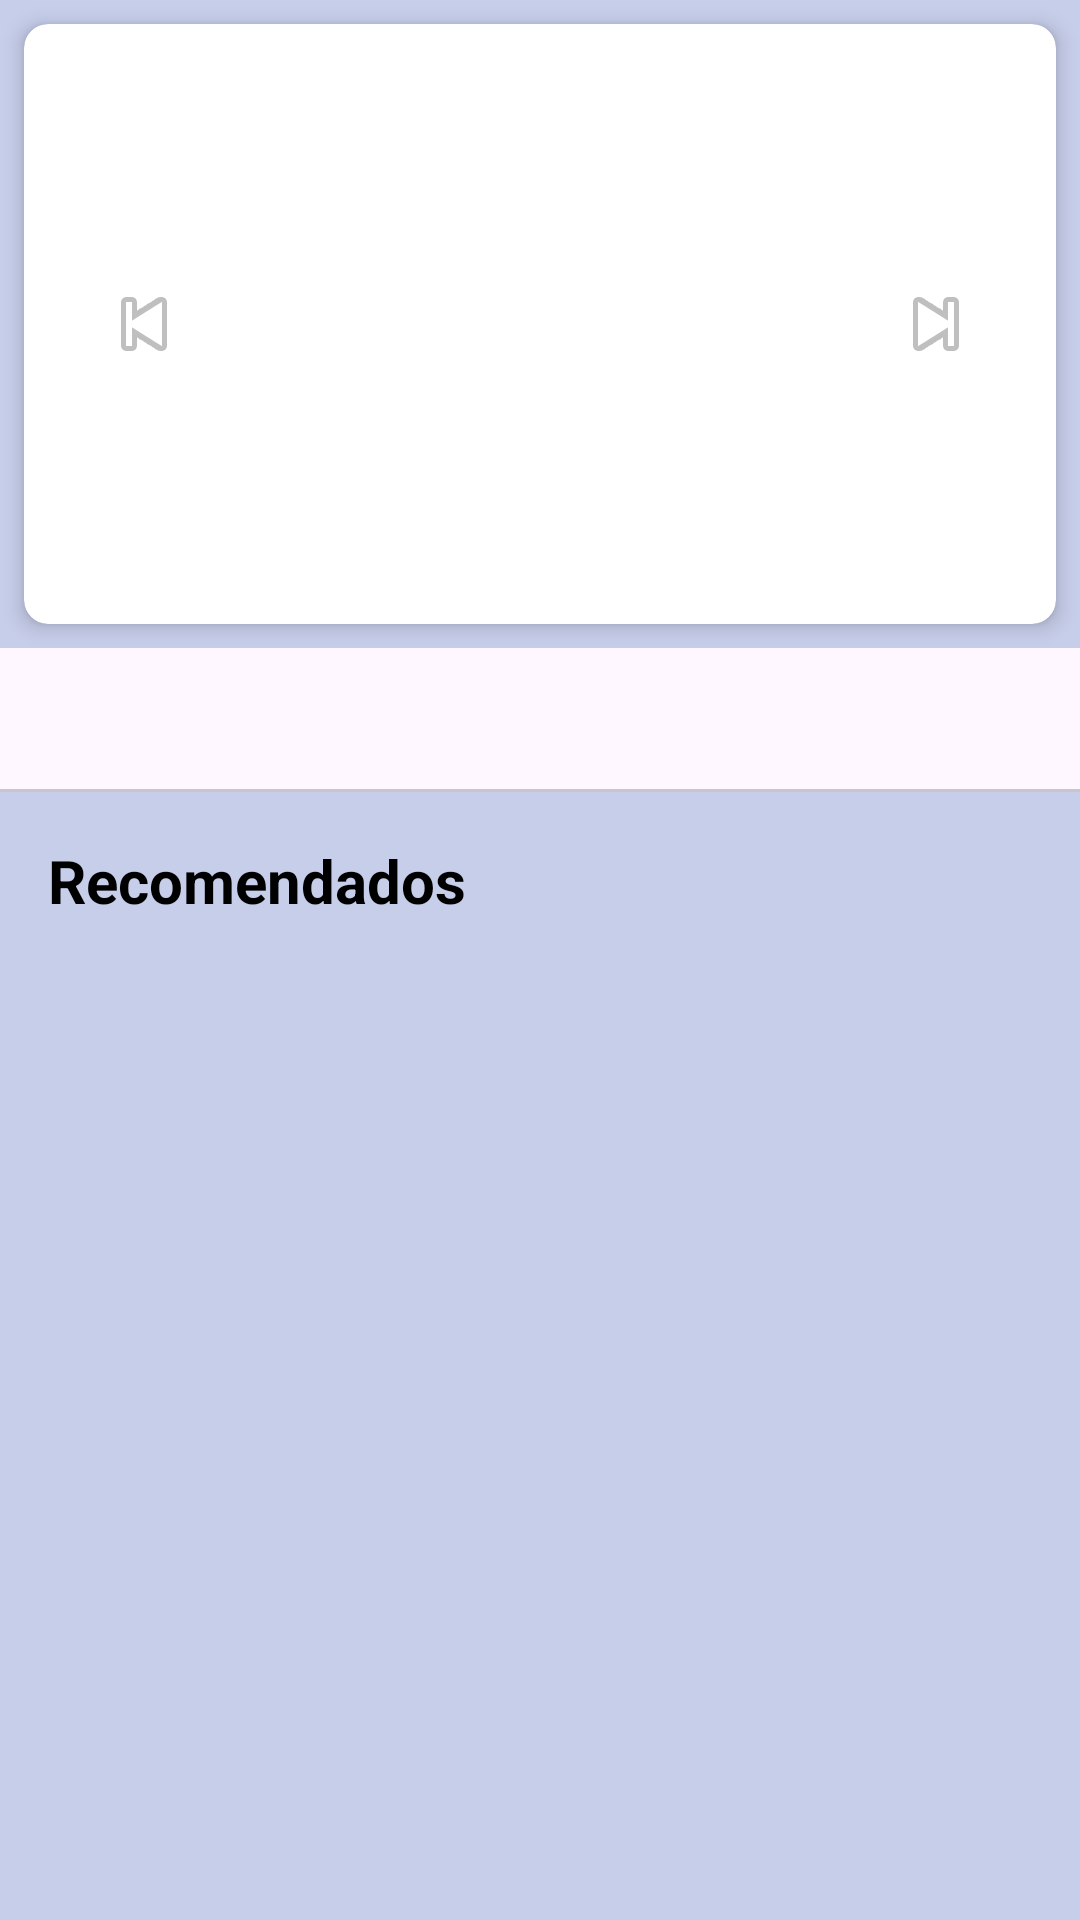

Screen size 1080px x 1920px. Icon name, then its box in pixels as {"x1": x1, "y1": y1, "x2": x2, "y2": y2}:
Anterior: {"x1": 121, "y1": 297, "x2": 167, "y2": 351}
Siguiente: {"x1": 913, "y1": 297, "x2": 959, "y2": 351}
